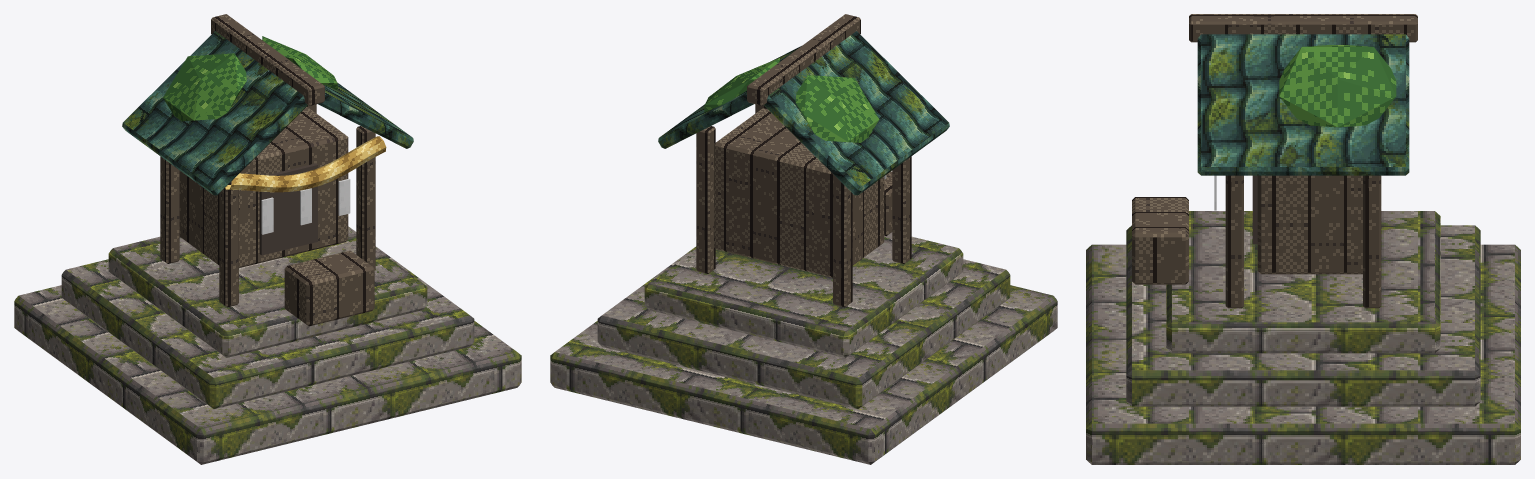
File: encina_shrine.glb
The picture shows the model from 3 angles, left to right: view 1: azimuth 30°, elevation 25°; view 2: azimuth 150°, elevation 25°; view 3: azimuth 270°, elevation 25°; orthographic projection. The views are drawn at different scales.
Visible parts, largest first — view 1: Shrine; view 2: Shrine; view 3: Shrine.
Boxes of the visible parts, x1,y1,x2,y2 form: Shrine: [14, 14, 521, 464]; Shrine: [550, 14, 1057, 464]; Shrine: [1086, 14, 1520, 464].
Bounding box in the file's own units: 3.8 × 3.45 × 3.8.
7 materials, 6 textured.
